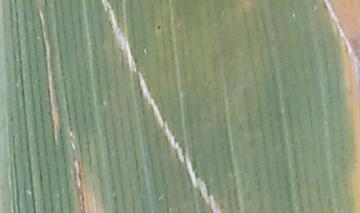tarspot: (139, 107, 147, 116), (155, 22, 162, 32), (111, 193, 119, 201), (132, 56, 138, 66), (42, 1, 50, 6)
